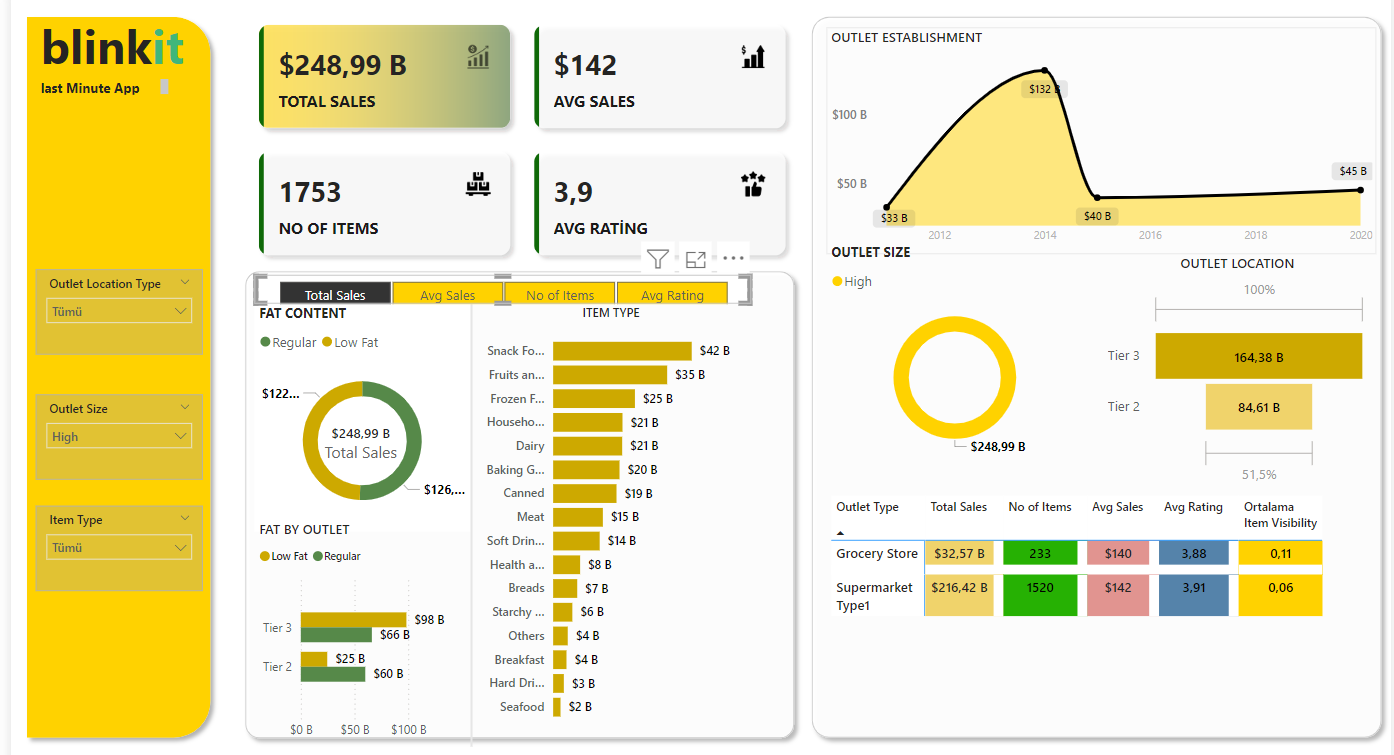

Layout of this report page (visuals, bound fields, positions):
{"tool":"powerbi","page":{"name":"1. sayfa","canvas":[1400,800],"ordinal":0},"visuals":[{"type":"shape","box":[7.1,22.9,204.5,749.2],"z":0},{"type":"textbox","box":[24.7,22.9,169.2,93.4],"z":1000},{"type":"textbox","box":[24.7,89.9,139.3,26.4],"z":2000},{"type":"cardVisual","fields":{"Data":["BlinkIT Grocery Data.Total Sales","BlinkIT Grocery Data.Avg Sales","BlinkIT Grocery Data.No of Items","BlinkIT Grocery Data.Avg Rating"]},"box":[234.5,22.9,569.4,269.7],"z":3000},{"type":"shape","box":[229.2,280.3,574.7,491.8],"z":4000},{"type":"donutChart","title":" FAT  CONTENT","fields":{"Y":["BlinkIT Grocery Data.Avg Sales"],"Category":["BlinkIT Grocery Data.Item Fat Content"]},"box":[246.8,322.6,218.6,230.9],"z":5000},{"type":"slicer","fields":{"Values":["Metrics.Metrics"]},"box":[246.8,292.6,504.2,30],"z":6000},{"type":"cardVisual","fields":{"Data":["BlinkIT Grocery Data.Avg Sales"]},"box":[234.5,426.6,241.5,59.9],"z":7000},{"type":"clusteredBarChart","title":"FAT BY OUTLET","fields":{"Y":["BlinkIT Grocery Data.Avg Sales"],"Category":["BlinkIT Grocery Data.Outlet Location Type"],"Series":["BlinkIT Grocery Data.Item Fat Content"]},"box":[246.8,541.2,218.6,230.9],"z":8000},{"type":"shape","box":[414.3,322.6,105.8,449.5],"z":9000},{"type":"barChart","title":"ITEM TYPE","fields":{"Y":["BlinkIT Grocery Data.Avg Sales"],"Category":["BlinkIT Grocery Data.Item Type"]},"box":[465.4,322.6,285.6,433.7],"z":10000},{"type":"shape","box":[803.9,22.9,595.8,749.2],"z":11000},{"type":"lineChart","title":"OUTLET ESTABLISHMENT","fields":{"Y":["BlinkIT Grocery Data.Total Sales"],"Category":["BlinkIT Grocery Data.Outlet Establishment Year"]},"box":[826.8,42.3,558.8,229.2],"z":12000},{"type":"donutChart","title":"OUTLET SIZE ","fields":{"Y":["BlinkIT Grocery Data.Total Sales"],"Category":["BlinkIT Grocery Data.Outlet Size"]},"box":[826.5,260.5,260.5,225.5],"z":13000},{"type":"funnel","title":"OUTLET LOCATION","fields":{"Y":["Sum(BlinkIT Grocery Data.Sales)"],"Category":["BlinkIT Grocery Data.Outlet Location Type"]},"box":[1107.1,271.5,273.2,239.7],"z":14000},{"type":"pivotTable","fields":{"Rows":["BlinkIT Grocery Data.Outlet Type"],"Values":["BlinkIT Grocery Data.Total Sales","BlinkIT Grocery Data.No of Items","BlinkIT Grocery Data.Avg Sales","BlinkIT Grocery Data.Avg Rating","Avg(BlinkIT Grocery Data.Item Visibility)"]},"box":[826.8,511.2,558.8,245],"z":15000},{"type":"slicer","fields":{"Values":["BlinkIT Grocery Data.Outlet Location Type"]},"box":[24.7,287.3,169.2,86.4],"z":16000},{"type":"slicer","fields":{"Values":["BlinkIT Grocery Data.Outlet Size"]},"box":[24.7,414.3,169.2,86.4],"z":17000},{"type":"slicer","fields":{"Values":["BlinkIT Grocery Data.Item Type"]},"box":[24.7,527.1,169.2,86.4],"z":18000}]}

Visuals, with their boxes on the page's 1400x800 design canvas (x1, y1, x2, y2). These are canvas units, not pixel positions in the 1394x755 screenshot, which may show the page scaled, cropped or inside an application window:
shape: [7, 23, 212, 772]
textbox: [25, 23, 194, 116]
textbox: [25, 90, 164, 116]
cardVisual - BlinkIT Grocery Data.Total Sales x BlinkIT Grocery Data.Avg Sales: [234, 23, 804, 293]
shape: [229, 280, 804, 772]
" FAT  CONTENT" donutChart: [247, 323, 465, 554]
slicer - Metrics.Metrics: [247, 293, 751, 323]
cardVisual - BlinkIT Grocery Data.Avg Sales: [234, 427, 476, 486]
"FAT BY OUTLET" clusteredBarChart: [247, 541, 465, 772]
shape: [414, 323, 520, 772]
"ITEM TYPE" barChart: [465, 323, 751, 756]
shape: [804, 23, 1400, 772]
"OUTLET ESTABLISHMENT" lineChart: [827, 42, 1386, 272]
"OUTLET SIZE " donutChart: [826, 260, 1087, 486]
"OUTLET LOCATION" funnel: [1107, 272, 1380, 511]
pivotTable - BlinkIT Grocery Data.Outlet Type x BlinkIT Grocery Data.Total Sales: [827, 511, 1386, 756]
slicer - BlinkIT Grocery Data.Outlet Location Type: [25, 287, 194, 374]
slicer - BlinkIT Grocery Data.Outlet Size: [25, 414, 194, 501]
slicer - BlinkIT Grocery Data.Item Type: [25, 527, 194, 614]
